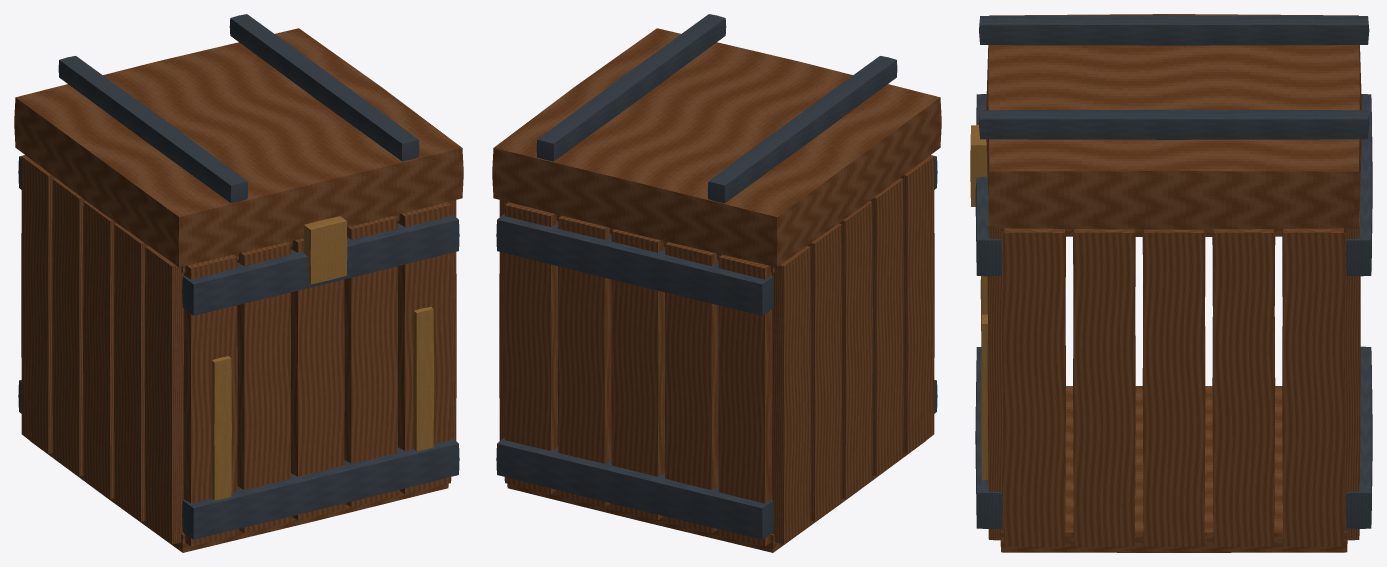
3 views of the same model, side by side, from view 1: azimuth 30°, elevation 25°; view 2: azimuth 150°, elevation 25°; view 3: azimuth 270°, elevation 25° (orthographic). The views are drawn at different scales.
Parts seen in each view (by area): view 1: wood.26, wood.14, wood.18, wood.9, wood.16, iron.22, iron.23, wood.1, wood.3, wood.5, wood.12, wood.7 (+8 smaller); view 2: wood.26, wood.0, wood.8, wood.2, wood.6, wood.4, wood.1, iron.11, iron.10, wood.9, wood.7, wood.5 (+5 smaller); view 3: wood.26, wood.13, wood.21, wood.19, wood.15, wood.17, iron.27, iron.28, wood.24, wood.8, wood.20, iron.10 (+5 smaller).
Part boxes in pixels (x1,y1,x2,y2): wood.26: [14, 28, 463, 267]; wood.14: [237, 242, 290, 533]; wood.18: [344, 215, 397, 507]; wood.9: [144, 246, 183, 544]; wood.16: [290, 238, 344, 520]; iron.22: [182, 438, 459, 539]; iron.23: [182, 214, 459, 315]; wood.1: [21, 155, 55, 453]; wood.3: [52, 178, 85, 476]; wood.5: [83, 201, 116, 498]; wood.12: [183, 254, 237, 546]; wood.7: [114, 223, 148, 521]; wood.26: [492, 28, 941, 267]; wood.0: [718, 254, 772, 546]; wood.8: [504, 202, 558, 494]; wood.2: [665, 242, 718, 533]; wood.6: [558, 215, 611, 507]; wood.4: [611, 229, 665, 520]; wood.1: [772, 246, 811, 544]; iron.11: [496, 214, 773, 315]; iron.10: [496, 438, 773, 539]; wood.9: [900, 155, 934, 453]; wood.7: [870, 178, 903, 476]; wood.5: [839, 201, 872, 498]; wood.26: [986, 14, 1361, 229]; wood.13: [1282, 228, 1344, 546]; wood.21: [1003, 228, 1065, 546]; wood.19: [1073, 229, 1135, 546]; wood.15: [1212, 229, 1275, 546]; wood.17: [1142, 229, 1205, 546]; iron.27: [979, 15, 1369, 45]; iron.28: [979, 109, 1369, 139]; wood.24: [1000, 386, 1347, 552]; wood.8: [1344, 211, 1360, 540]; wood.20: [987, 212, 1003, 540]; iron.10: [1346, 346, 1372, 528].
Bounding box in the file's own units: 0.54 × 0.655 × 0.5775.
Materials: 3 (3 with a texture image).
